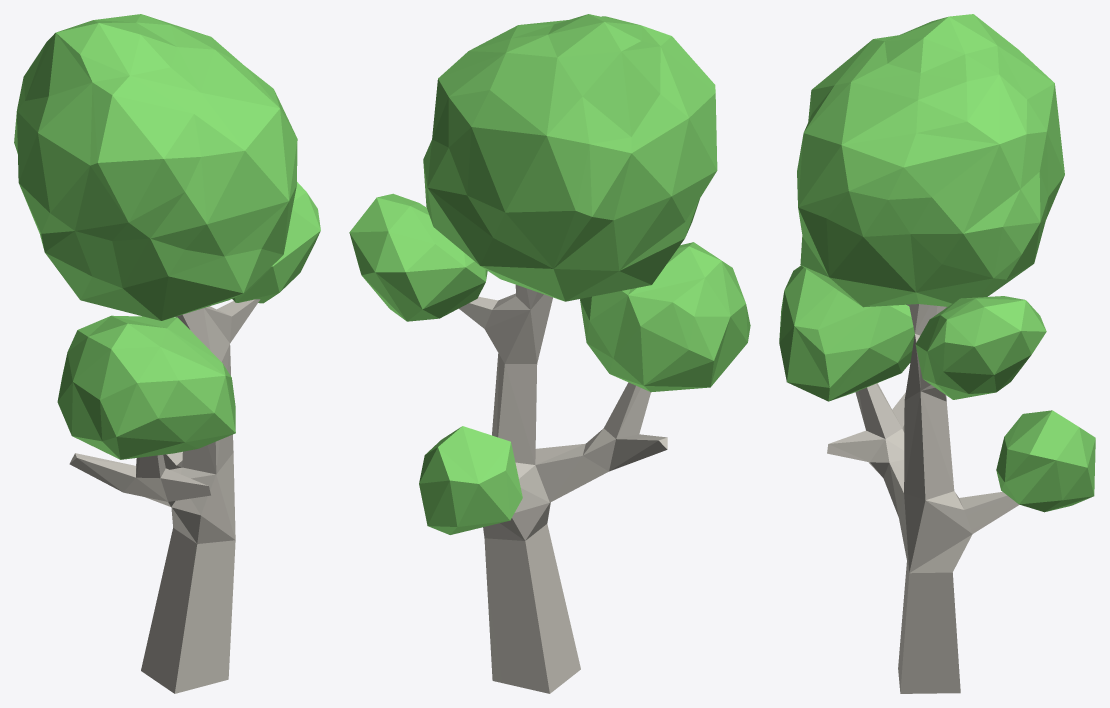
The model's file is Tree_1.fbx.
3 renders of one model, left to right at view 1: azimuth 30°, elevation 25°; view 2: azimuth 150°, elevation 25°; view 3: azimuth 270°, elevation 25°, orthographic. The views are drawn at different scales.
Visible parts, largest first — view 1: Tree1.004; view 2: Tree1.004; view 3: Tree1.004.
Boxes of the visible parts, x1,y1,x2,y2 form: Tree1.004: [14, 14, 320, 693]; Tree1.004: [349, 14, 750, 693]; Tree1.004: [779, 14, 1095, 693].
Size of the model in its own units: 983 by 2063 by 941.
